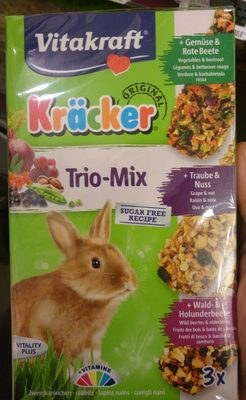Vitakraft Kracker konijn groente noten bosbessen: (12, 20, 234, 380)
